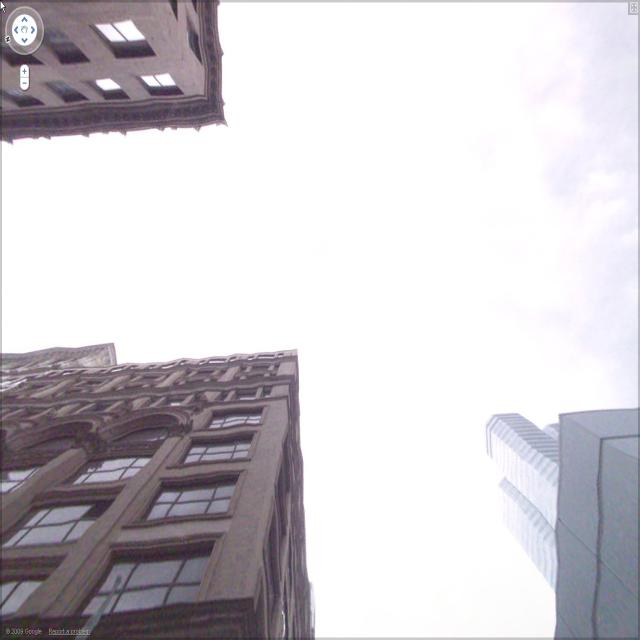b_1: (2, 346, 314, 640), (0, 3, 256, 122), (547, 396, 640, 633), (480, 401, 558, 562)
